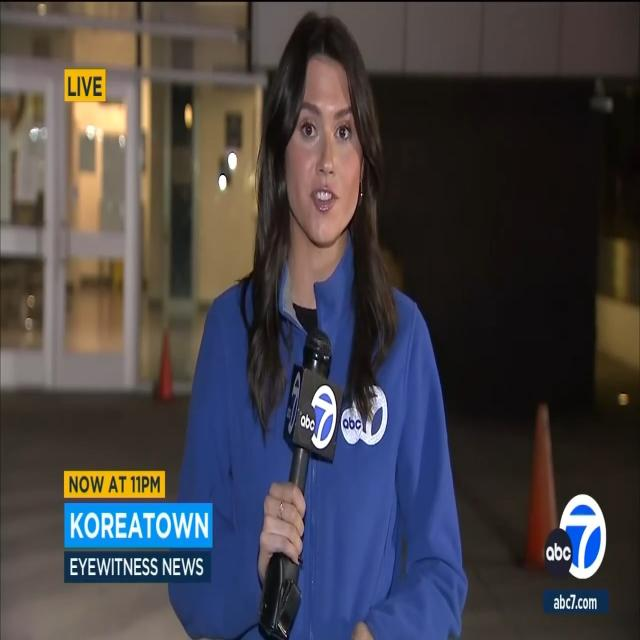microphone: (260, 321, 336, 640)
